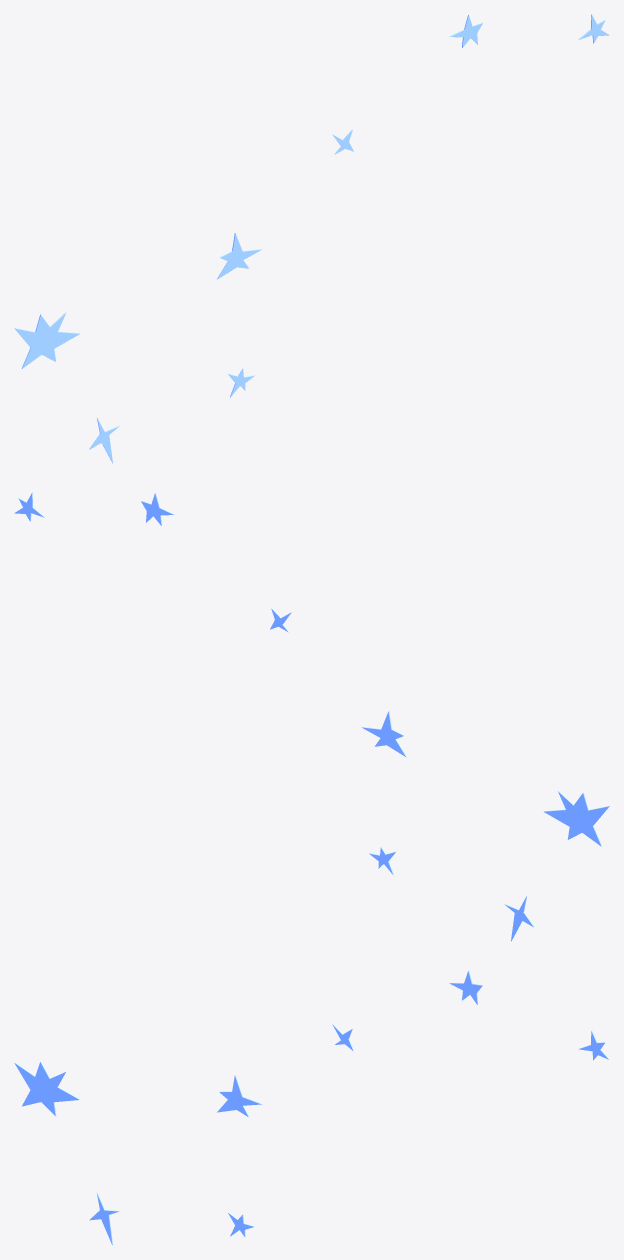
The model's file is constellation_ursa_major_cartoon_stars.glb.
3 renders of one model, top to bottom at view 1: azimuth 30°, elevation 25°; view 2: azimuth 150°, elevation 25°; view 3: azimuth 330°, elevation 25°, orthographic.
Parts seen in each view (by area): view 1: Plane.002_0; view 2: Plane.002_0; view 3: Plane.002_0.
Boxes of the visible parts, <box> form: Plane.002_0: <box>14,14,609,463</box>; Plane.002_0: <box>14,492,609,941</box>; Plane.002_0: <box>14,970,609,1245</box>.
Bounding box in the file's own units: 3.62 × 2.11 × 0.00708.
